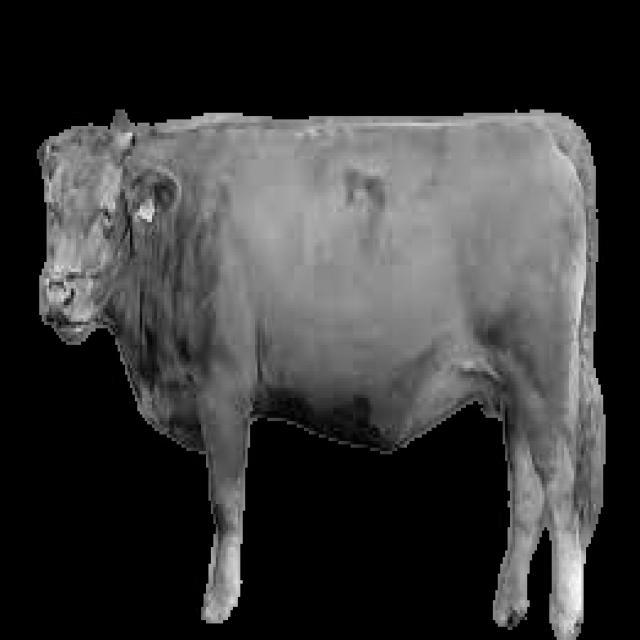cow: (39, 111, 605, 640)
